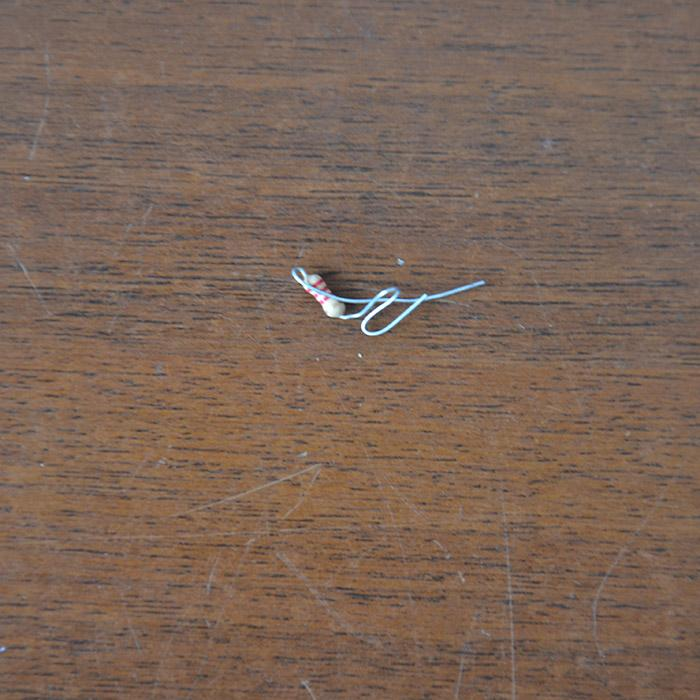resistor: (300, 271, 343, 317)
